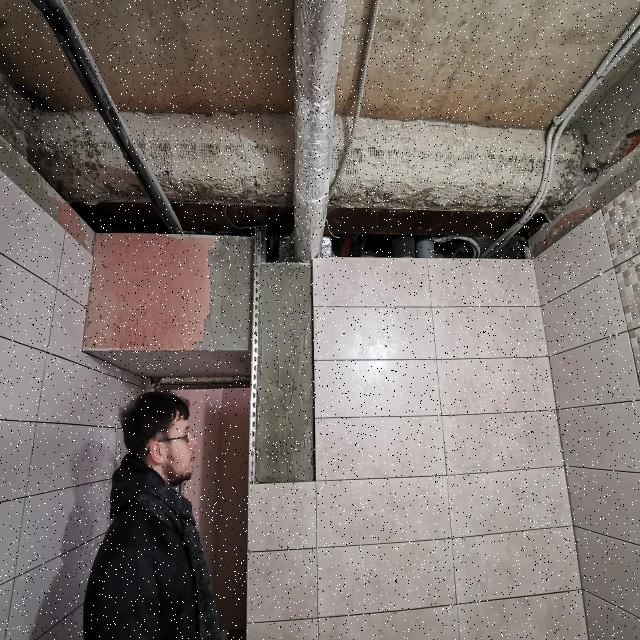NoHelmet: (120, 391, 200, 485)
